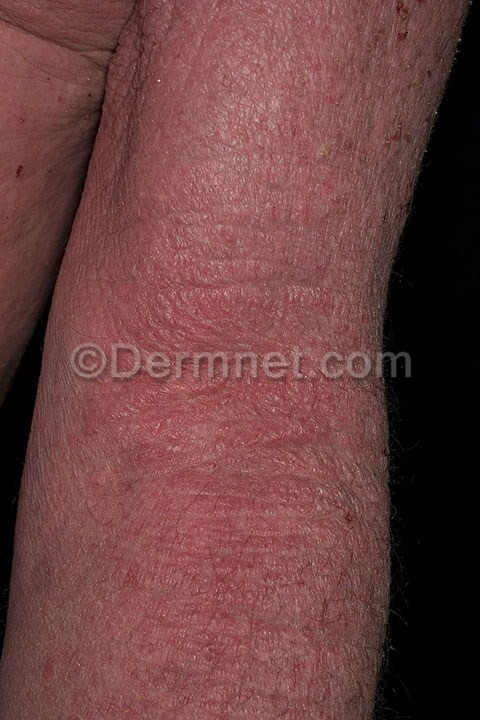Eczema: (22, 1, 455, 713)
